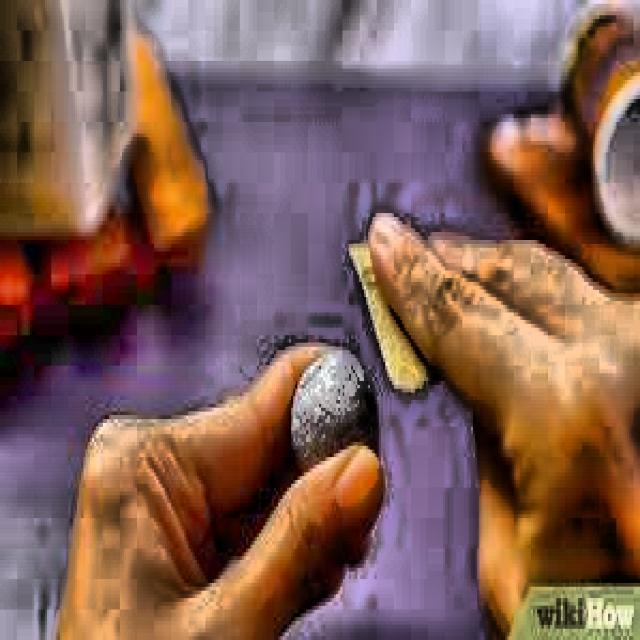Foil: (282, 334, 391, 508)
